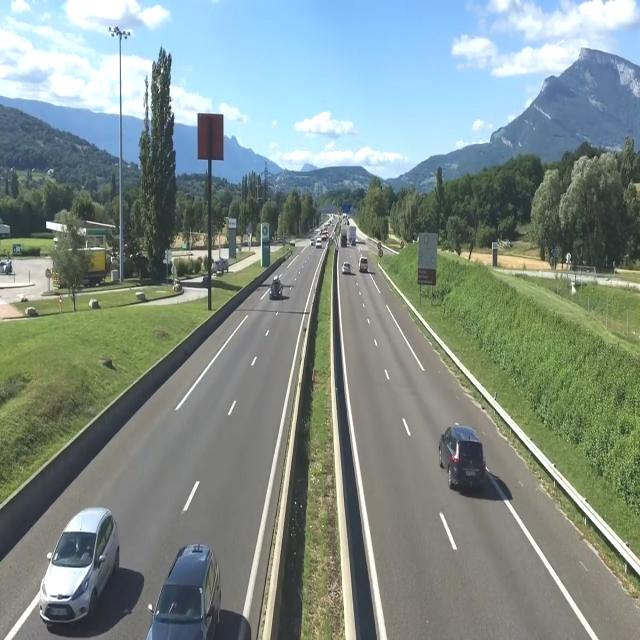Car: (37, 507, 120, 622), (147, 543, 220, 640), (438, 426, 488, 488), (268, 279, 284, 299), (342, 262, 352, 276)
Truck: (348, 224, 358, 242), (340, 225, 348, 239)
Van: (358, 256, 368, 271), (316, 238, 323, 248)
